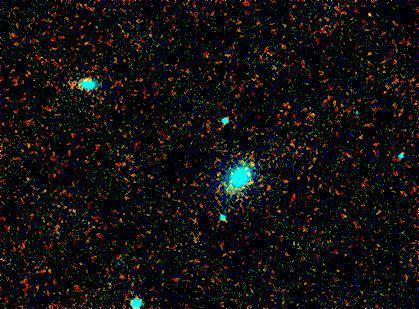star: (355, 0, 385, 28)
